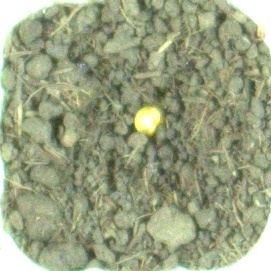chilli seed: (131, 104, 166, 138)
